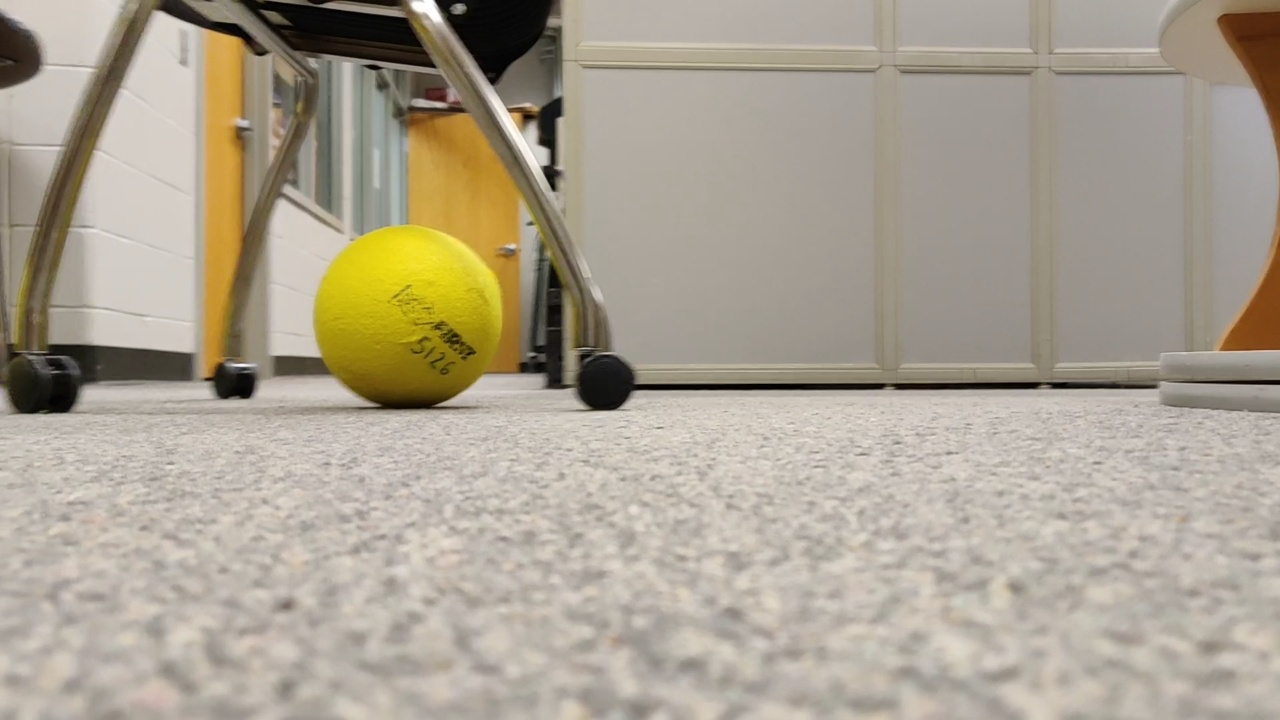Ball: (317, 224, 496, 407)
